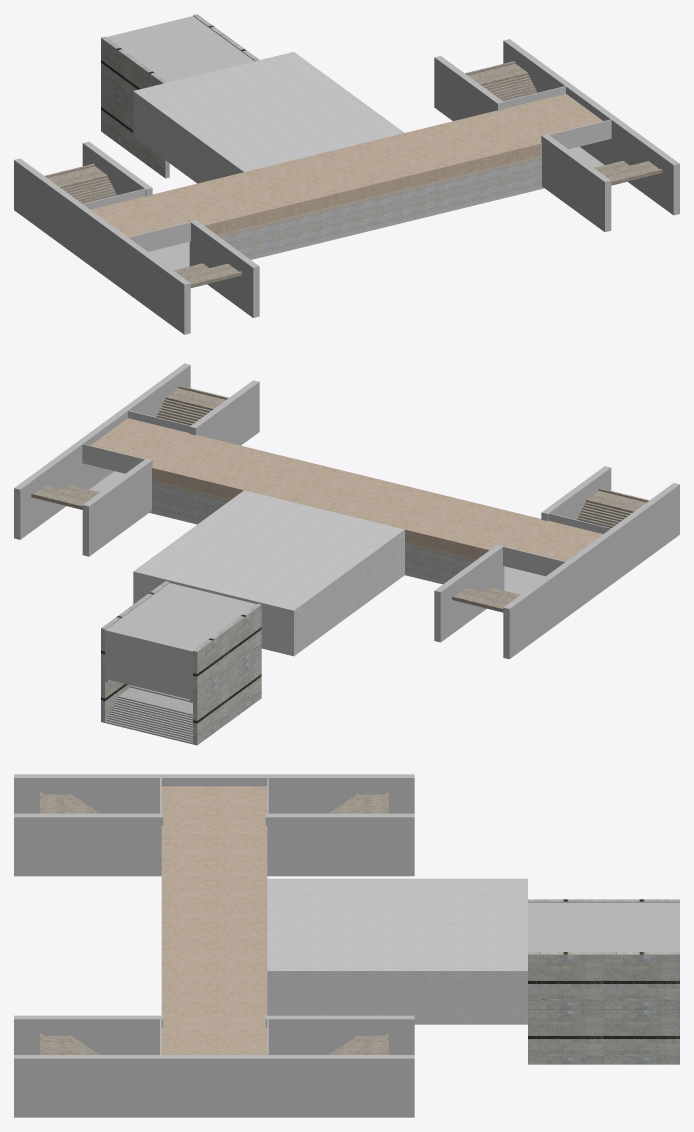
Rendered from Subway06_CorridorInter.FBX.
The picture shows the model from 3 angles, top to bottom: view 1: azimuth 30°, elevation 25°; view 2: azimuth 150°, elevation 25°; view 3: azimuth 270°, elevation 25°; orthographic projection. The views are drawn at different scales.
Visible parts, largest first — view 1: Subway06_aStairWall, Subway06_Inter, Subway06_CorridorCeil0102, Subway06_CorridorWall, Subway06_aStair, Subway06StairUp, Subway06_CorridorCeil01, Subway06StairWall01, Subway06_CorridorFloor; view 2: Subway06_aStairWall, Subway06_Inter, Subway06_CorridorCeil0102, Subway06StairUp, Subway06StairWall01, Subway06_aStair, Subway06_CorridorCeil01, Subway06_CorridorWall, Subway06Stair, Subway06_CorridorFloor; view 3: Subway06_aStairWall, Subway06_Inter, Subway06_CorridorCeil0102, Subway06StairWall01, Subway06StairUp, Subway06_CorridorCeil01, Subway06_aStair.
Part boxes in pixels (<box>): Subway06_aStairWall: <box>14,39,679,334</box>; Subway06_Inter: <box>133,52,404,183</box>; Subway06_CorridorCeil0102: <box>152,110,541,234</box>; Subway06_CorridorWall: <box>217,155,541,257</box>; Subway06_aStair: <box>44,61,662,287</box>; Subway06StairUp: <box>106,16,254,82</box>; Subway06_CorridorCeil01: <box>91,93,603,236</box>; Subway06StairWall01: <box>101,14,259,178</box>; Subway06_CorridorFloor: <box>148,146,604,270</box>; Subway06_aStairWall: <box>14,363,679,659</box>; Subway06_Inter: <box>133,490,404,656</box>; Subway06_CorridorCeil0102: <box>152,435,541,558</box>; Subway06StairUp: <box>105,583,256,702</box>; Subway06StairWall01: <box>101,581,261,745</box>; Subway06_aStair: <box>31,385,649,612</box>; Subway06_CorridorCeil01: <box>91,418,603,561</box>; Subway06_CorridorWall: <box>152,479,477,582</box>; Subway06Stair: <box>105,685,192,744</box>; Subway06_CorridorFloor: <box>89,471,545,594</box>; Subway06_aStairWall: <box>14,774,414,1117</box>; Subway06_Inter: <box>267,878,527,1024</box>; Subway06_CorridorCeil0102: <box>161,825,267,1023</box>; Subway06StairWall01: <box>528,899,679,1064</box>; Subway06StairUp: <box>528,902,679,951</box>; Subway06_CorridorCeil01: <box>161,786,267,1054</box>; Subway06_aStair: <box>40,792,388,1054</box>.
Bounding box in the file's own units: 78938 × 15616 × 78107.
